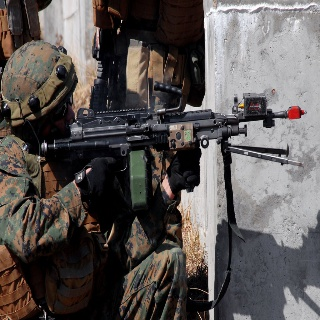rifle: (40, 92, 311, 239)
